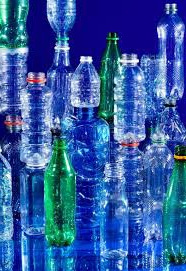plastic water bottle: (93, 157, 133, 262), (17, 71, 54, 168), (109, 55, 147, 143), (155, 2, 185, 102), (70, 54, 101, 111), (1, 146, 19, 242), (152, 98, 186, 145)
